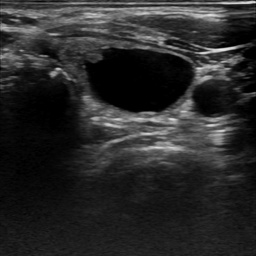mass: (82, 48, 196, 114)
